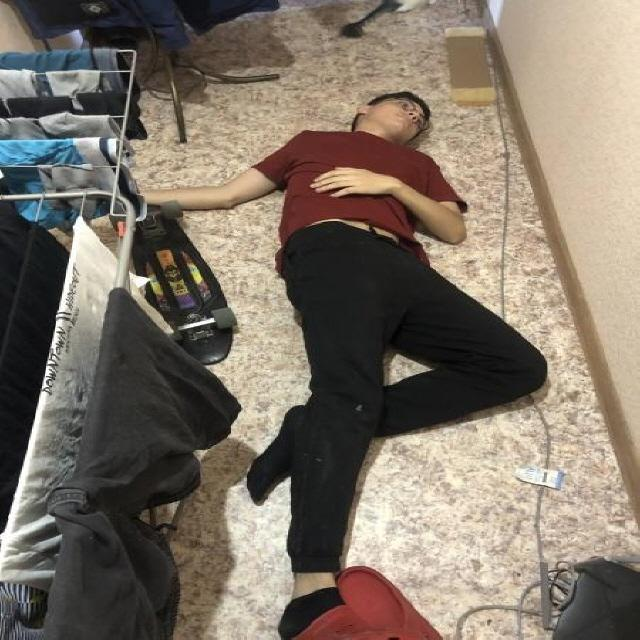Fall: (146, 91, 548, 640)
